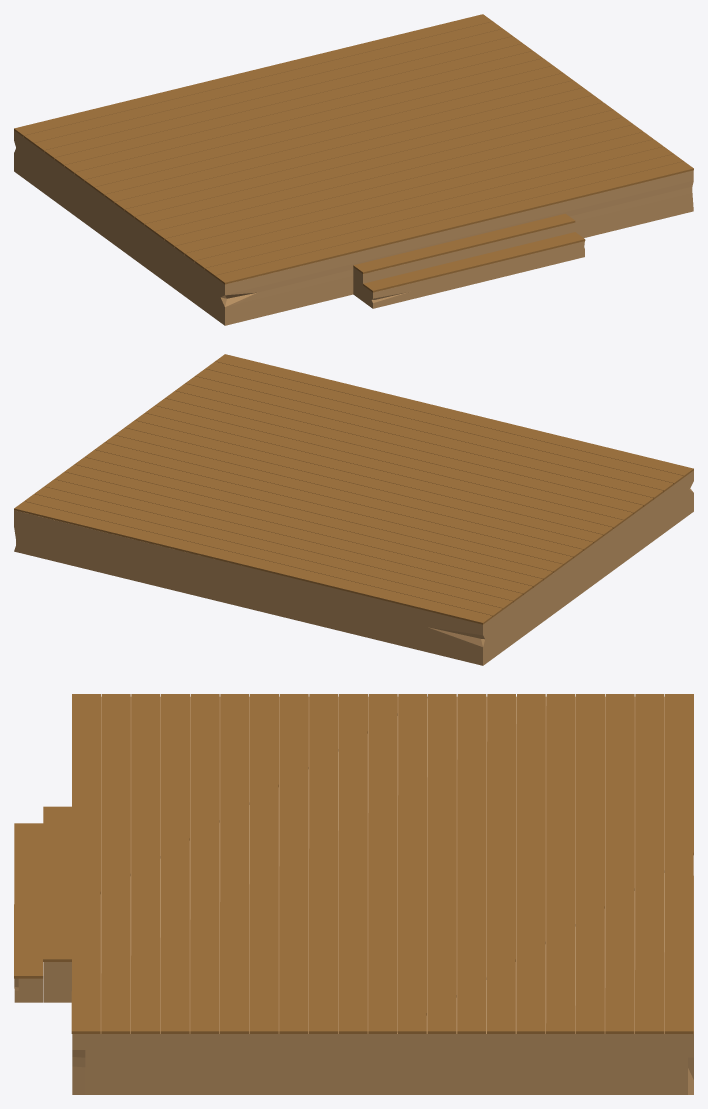
File: Platform_4.fbx
3 views of the same model, one above another, from view 1: azimuth 30°, elevation 25°; view 2: azimuth 150°, elevation 25°; view 3: azimuth 270°, elevation 25° (orthographic). The views are drawn at different scales.
Visible parts, largest first — view 1: Platform_4; view 2: Platform_4; view 3: Platform_4.
Boxes of the visible parts, x1,y1,x2,y2 form: Platform_4: (14,14,693,325); Platform_4: (14,354,693,665); Platform_4: (14,694,693,1094).
Bounding box in the file's own units: 967 × 824 × 84.71.
